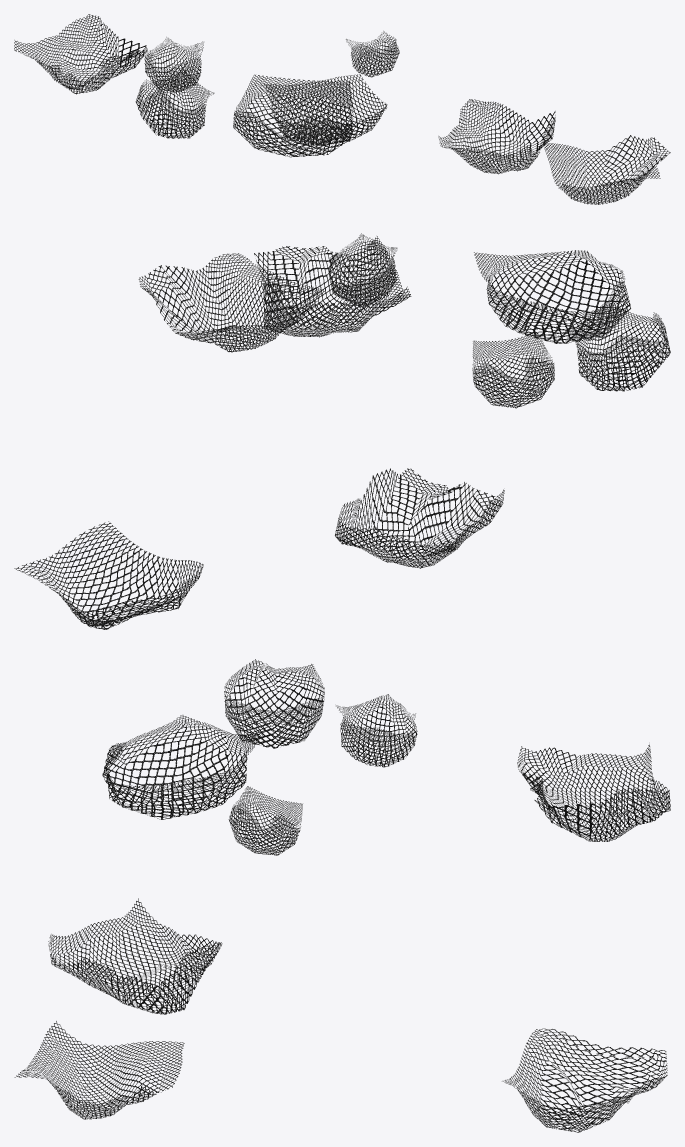
File: slateminesDenNetting.fbx
3 views of the same model, one above another, from view 1: azimuth 30°, elevation 25°; view 2: azimuth 150°, elevation 25°; view 3: azimuth 270°, elevation 25° (orthographic). The views are drawn at different scales.
Visible parts, largest first — view 1: SMDenNetting.001; view 2: SMDenNetting.001; view 3: SMDenNetting.001.
Boxes of the visible parts, x1,y1,x2,y2 form: SMDenNetting.001: [14, 14, 670, 204]; SMDenNetting.001: [14, 233, 670, 629]; SMDenNetting.001: [14, 659, 670, 1132].
Size of the model in its own units: 11527 by 5283 by 10975.
